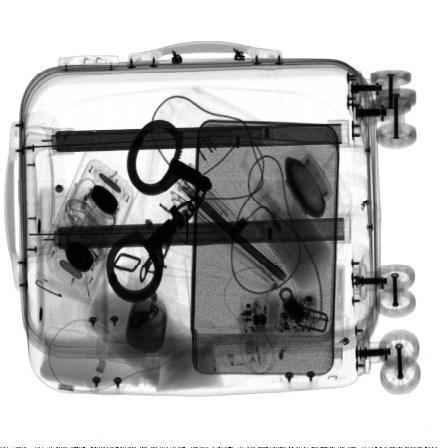HandCuffs: (105, 119, 213, 306)
